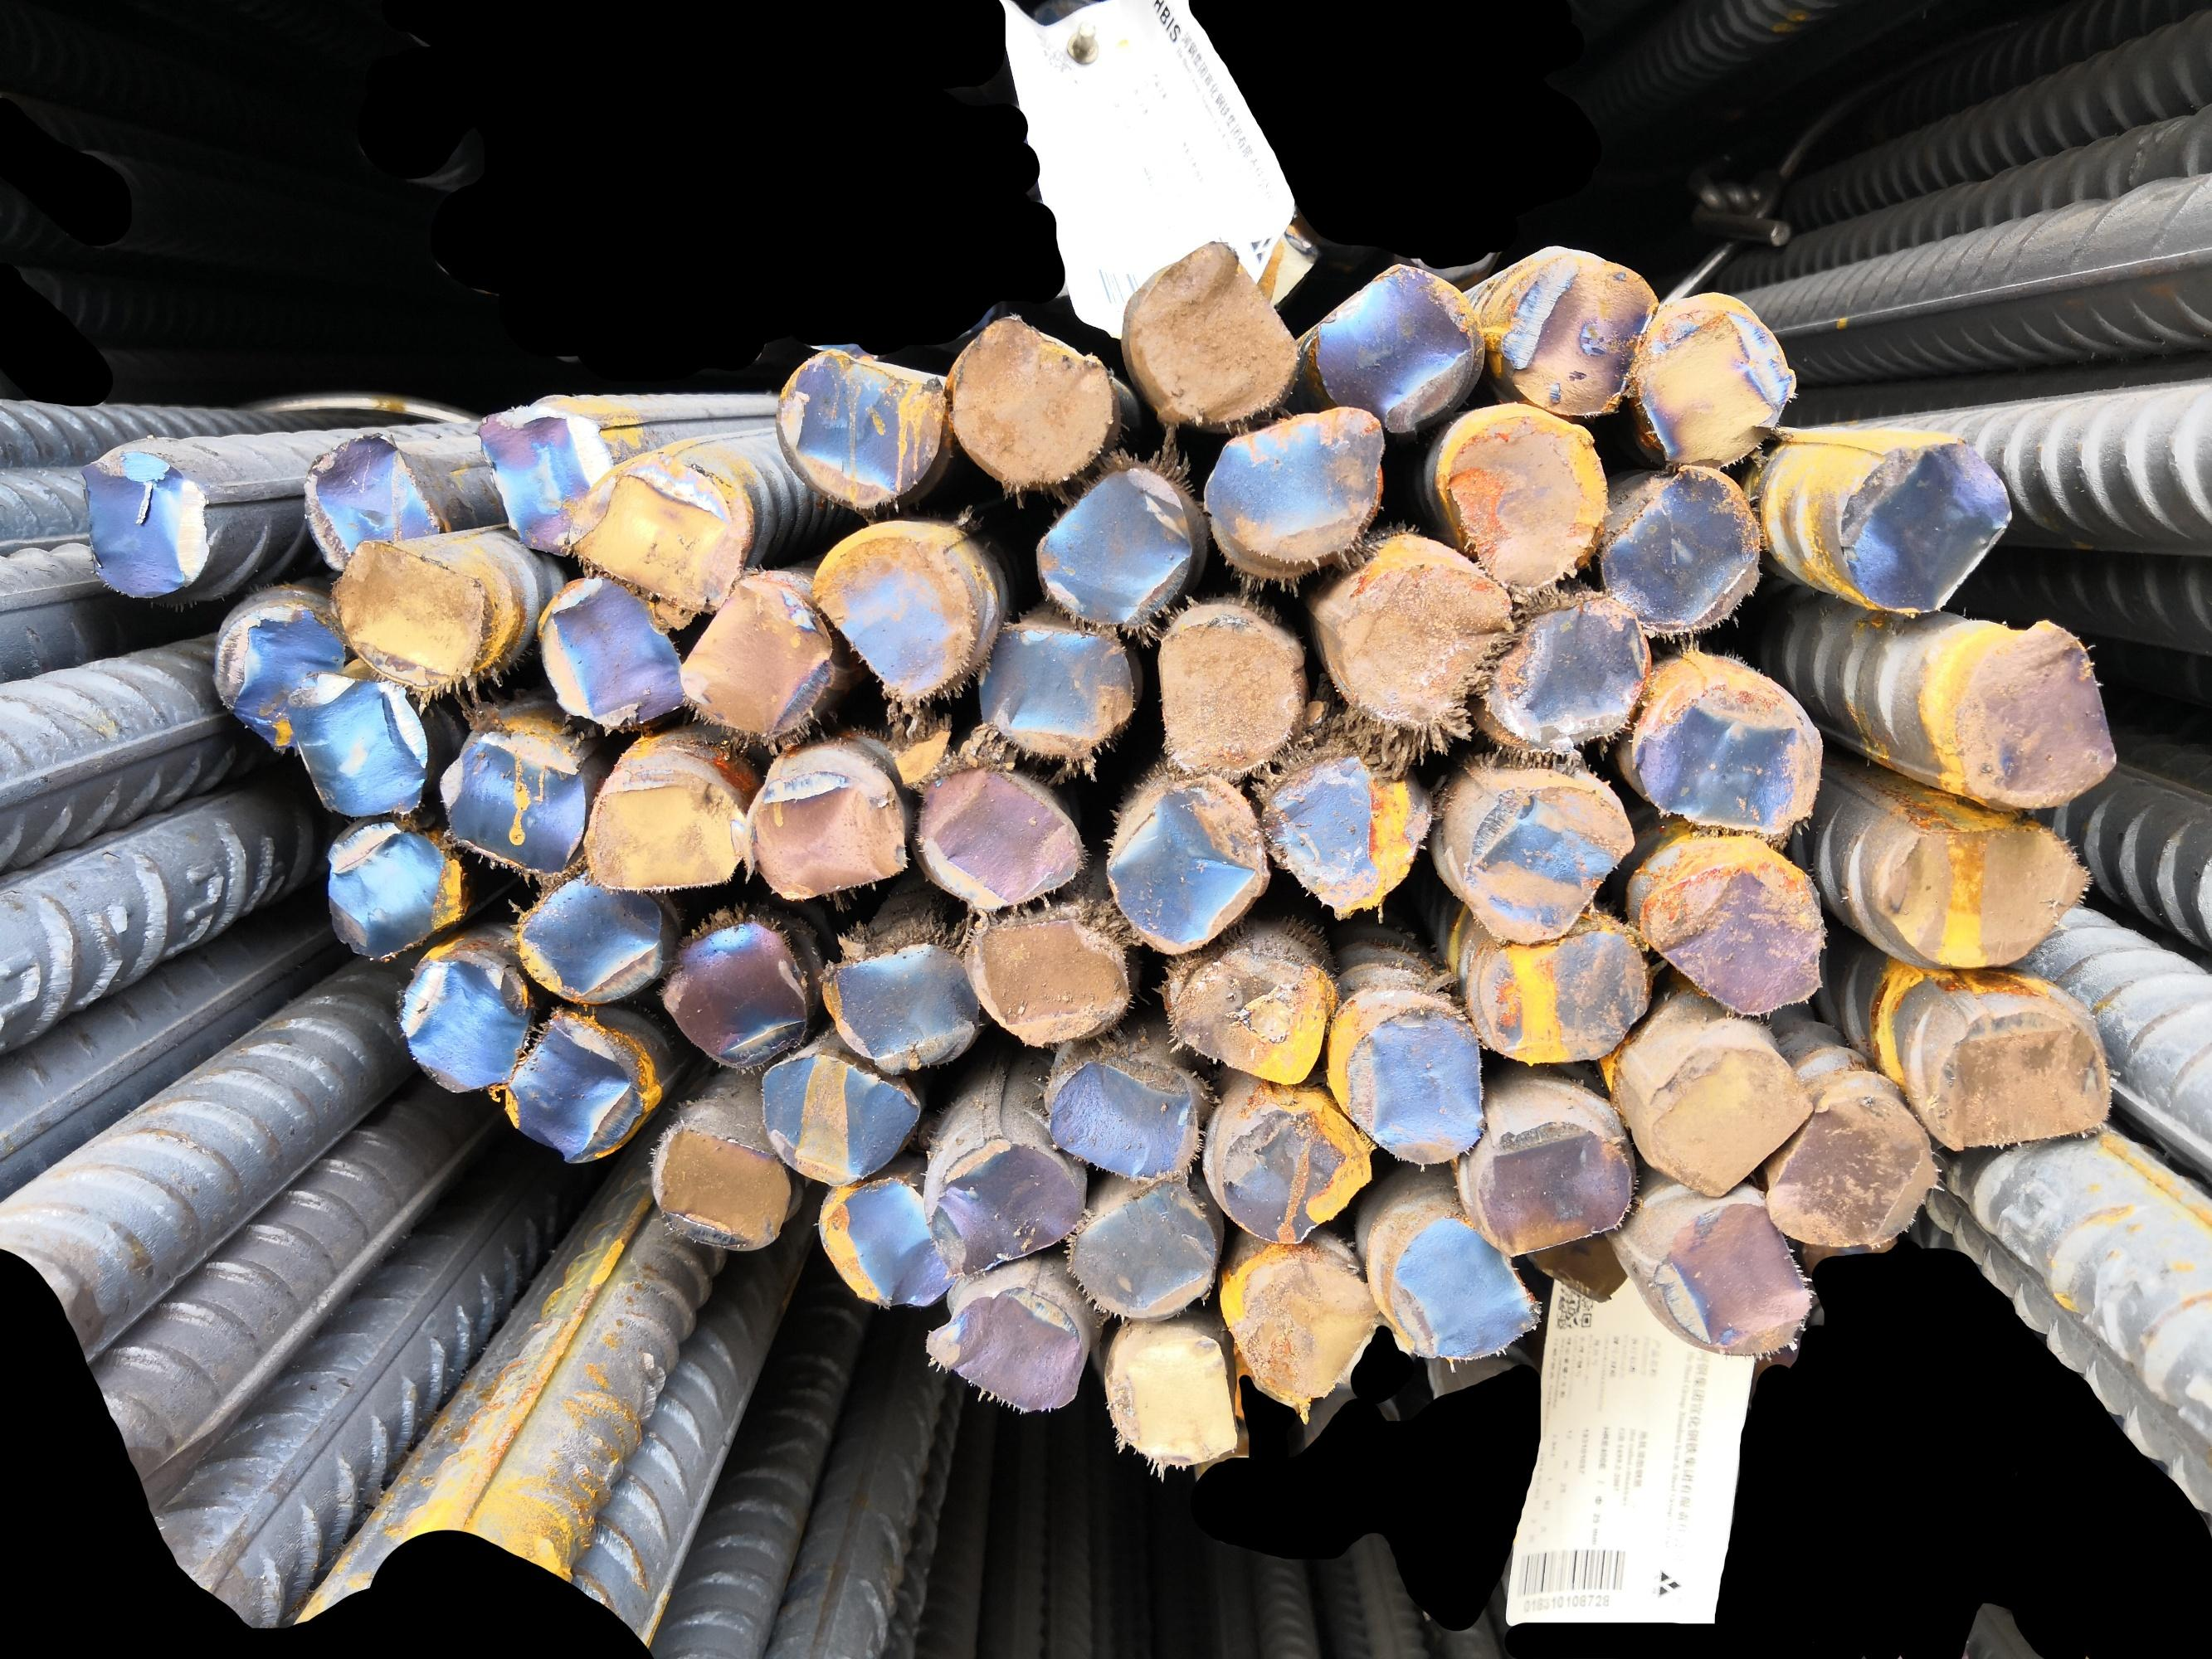bar: (1323, 525, 1523, 742), (1942, 612, 2125, 816), (1867, 816, 2104, 971), (1431, 397, 1618, 594), (1121, 234, 1306, 432), (1252, 732, 1440, 920), (1628, 674, 1830, 845), (1829, 432, 2017, 615), (1302, 254, 1489, 437), (804, 526, 985, 713), (1199, 397, 1394, 570), (1637, 854, 1834, 1021), (943, 308, 1121, 493), (1489, 240, 1666, 422), (1100, 777, 1274, 958), (1473, 584, 1654, 758), (1759, 1087, 1947, 1255), (1590, 460, 1766, 638), (1459, 777, 1639, 951), (1632, 1039, 1820, 1204), (906, 748, 1089, 915), (1027, 453, 1199, 629), (769, 345, 947, 516), (671, 565, 838, 746), (1633, 291, 1801, 472), (1644, 1192, 1818, 1363), (1461, 918, 1656, 1068), (1152, 606, 1314, 786), (1926, 1002, 2118, 1154), (915, 1129, 1096, 1283), (526, 568, 692, 735), (558, 467, 744, 615), (493, 1002, 657, 1168), (1335, 995, 1492, 1168), (650, 910, 816, 1072), (326, 535, 493, 695), (1056, 1171, 1225, 1330), (1229, 1248, 1382, 1422), (812, 931, 985, 1082), (432, 720, 593, 882), (1210, 1093, 1375, 1249), (1377, 1211, 1546, 1364), (1159, 943, 1335, 1089), (969, 615, 1140, 765), (312, 812, 478, 964), (279, 664, 438, 821), (964, 906, 1135, 1051), (1469, 1115, 1640, 1260), (753, 1047, 926, 1190), (739, 763, 913, 904), (467, 406, 622, 559), (919, 1279, 1089, 1417), (509, 859, 668, 1007), (71, 443, 216, 605), (296, 427, 448, 577), (1098, 1323, 1245, 1478), (209, 596, 350, 753), (392, 946, 537, 1098), (1039, 1053, 1206, 1183), (579, 772, 746, 896), (811, 1171, 959, 1310), (647, 1117, 797, 1255), (1515, 1213, 1652, 1310)
